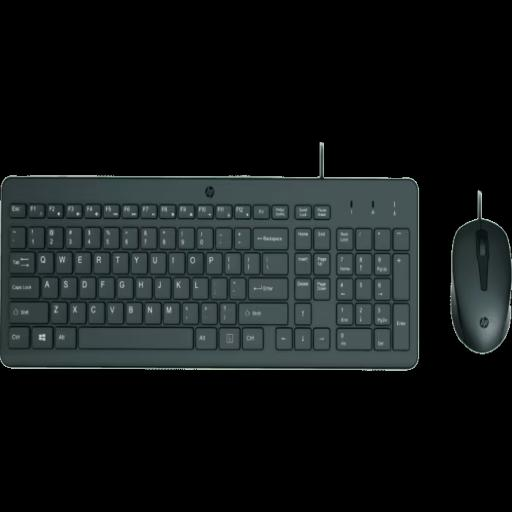KEYBOARD-2: (5, 178, 417, 367)
